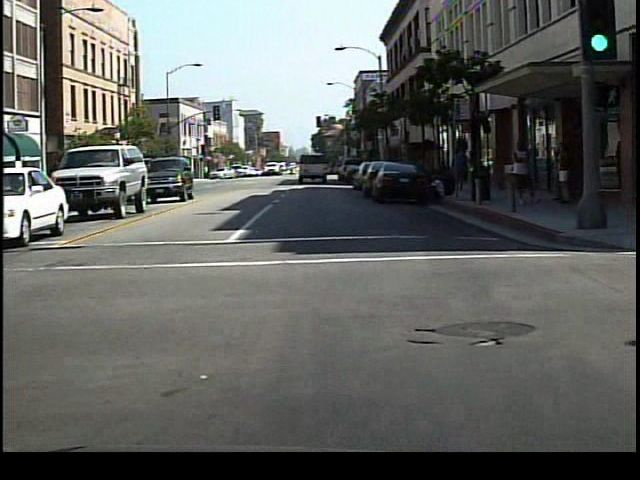person: (506, 136, 541, 215), (447, 142, 470, 200)
